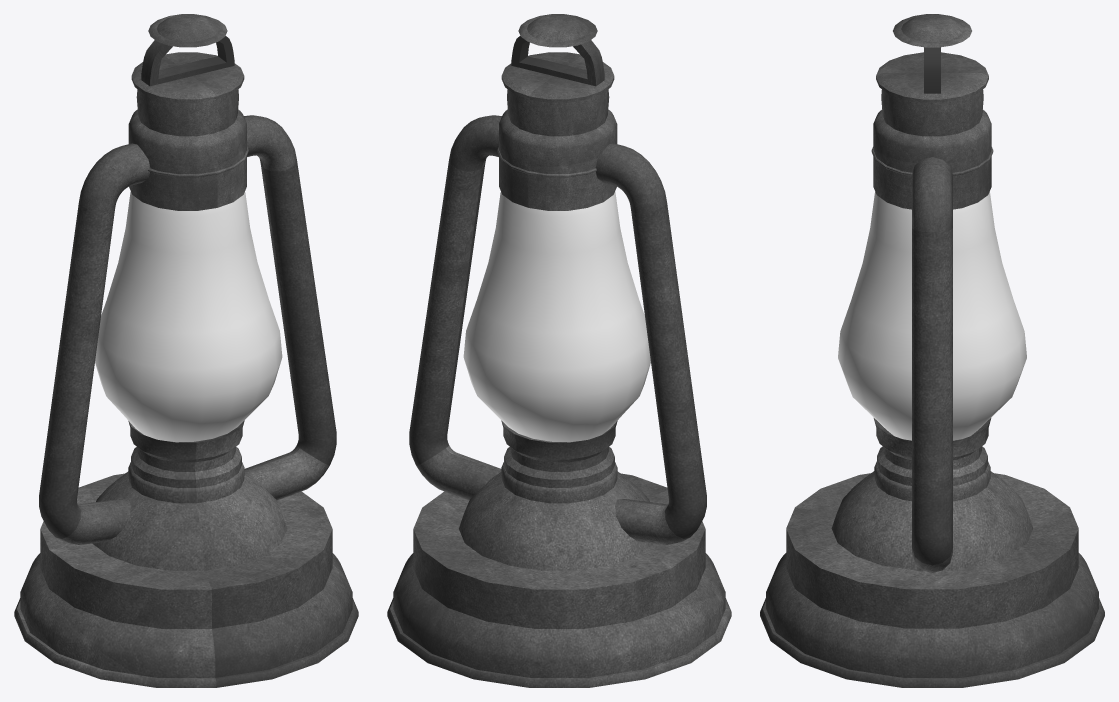
File: Lamp.fbx
The picture shows the model from 3 angles, left to right: view 1: azimuth 30°, elevation 25°; view 2: azimuth 150°, elevation 25°; view 3: azimuth 270°, elevation 25°; orthographic projection.
Visible parts, largest first — view 1: Cylinder001, Object001, Sphere001; view 2: Cylinder001, Object001, Sphere001; view 3: Cylinder001, Object001, Sphere001.
Part boxes in pixels (x1=…): Cylinder001: x1=14, y1=420, x2=358, y2=687; Object001: x1=39, y1=14, x2=336, y2=544; Sphere001: x1=95, y1=192, x2=282, y2=442; Cylinder001: x1=387, y1=420, x2=731, y2=687; Object001: x1=409, y1=14, x2=706, y2=544; Sphere001: x1=463, y1=192, x2=650, y2=442; Cylinder001: x1=760, y1=418, x2=1104, y2=687; Object001: x1=871, y1=14, x2=993, y2=572; Sphere001: x1=838, y1=192, x2=1026, y2=440.
Bounding box in the file's own units: 17.92 × 34.66 × 18.16.
3 materials, 3 textured.
